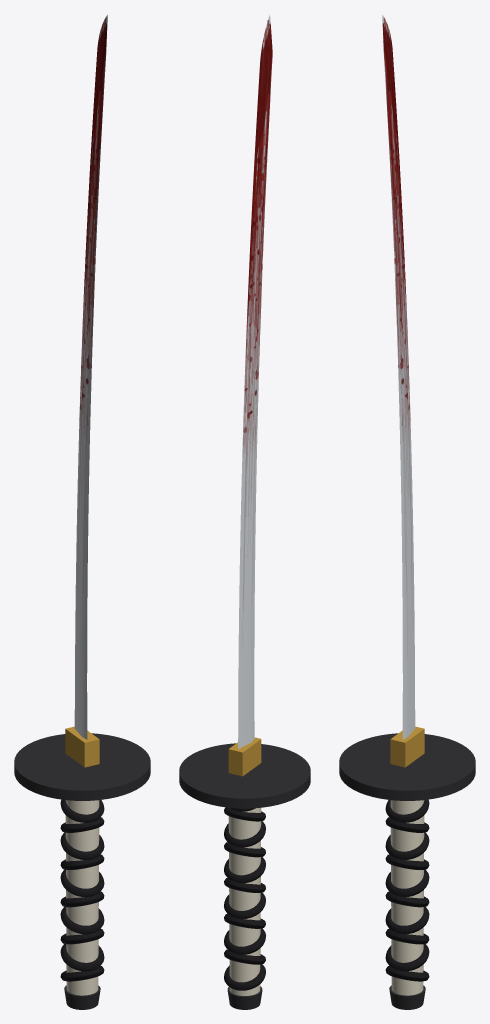
Rendered from katana.glb.
3 renders of one model, left to right at view 1: azimuth 30°, elevation 25°; view 2: azimuth 150°, elevation 25°; view 3: azimuth 330°, elevation 25°, orthographic. The views are drawn at different scales.
Visible parts, largest first — view 1: TsubaKashira, Hoja, Cordon, Sangre, Mango, Habaki; view 2: Hoja, TsubaKashira, Sangre, Cordon, Mango, Habaki; view 3: TsubaKashira, Hoja, Cordon, Sangre, Mango, Habaki.
Boxes of the visible parts, x1=… form: TsubaKashira: x1=14, y1=733, x2=150, y2=1009; Hoja: x1=74, y1=15, x2=107, y2=739; Cordon: x1=60, y1=799, x2=104, y2=981; Sangre: x1=79, y1=18, x2=107, y2=496; Mango: x1=65, y1=800, x2=99, y2=995; Habaki: x1=65, y1=726, x2=99, y2=767; Hoja: x1=238, y1=15, x2=272, y2=748; TsubaKashira: x1=179, y1=743, x2=310, y2=1009; Sangre: x1=243, y1=20, x2=272, y2=599; Cordon: x1=224, y1=807, x2=265, y2=990; Mango: x1=228, y1=807, x2=261, y2=995; Habaki: x1=228, y1=737, x2=261, y2=776; TsubaKashira: x1=339, y1=733, x2=475, y2=1009; Hoja: x1=382, y1=15, x2=415, y2=739; Cordon: x1=385, y1=799, x2=429, y2=981; Sangre: x1=382, y1=18, x2=410, y2=496; Mango: x1=390, y1=800, x2=424, y2=995; Habaki: x1=390, y1=726, x2=424, y2=767.
Size of the model in its own units: 0.132 by 1.07 by 0.132.
6 materials, 1 textured.
